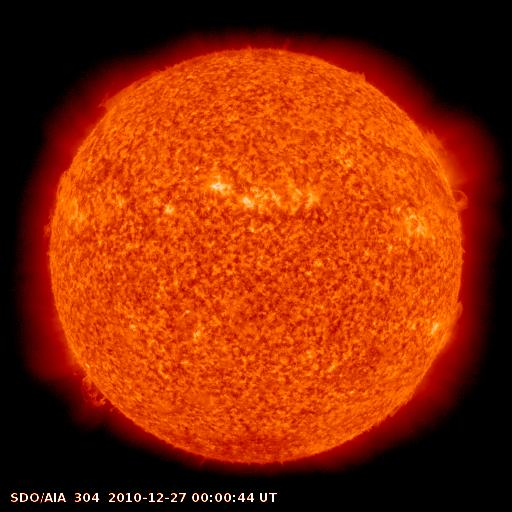prominence: (91, 60, 169, 116), (69, 355, 120, 425), (42, 161, 74, 240), (415, 117, 454, 161), (442, 288, 473, 328), (449, 185, 472, 216)
